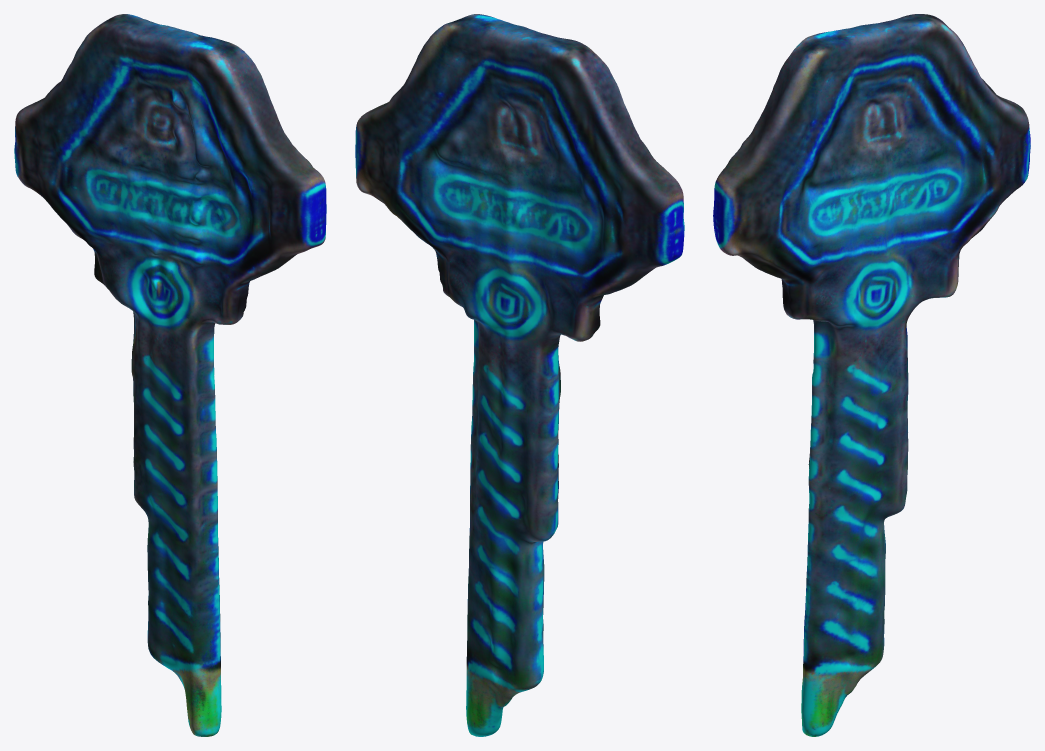
Rendered from llave2.glb.
The picture shows the model from 3 angles, left to right: view 1: azimuth 30°, elevation 25°; view 2: azimuth 210°, elevation 25°; view 3: azimuth 270°, elevation 25°; orthographic projection. The views are drawn at different scales.
Visible parts, largest first — view 1: geometry_0; view 2: geometry_0; view 3: geometry_0.
Part boxes in pixels (x1,y1,x2,y2): geometry_0: (14, 14, 326, 736); geometry_0: (355, 14, 684, 736); geometry_0: (713, 14, 1030, 736).
Bounding box in the file's own units: 0.1537 × 0.5947 × 0.2439.
Materials: 1 (1 with a texture image).
